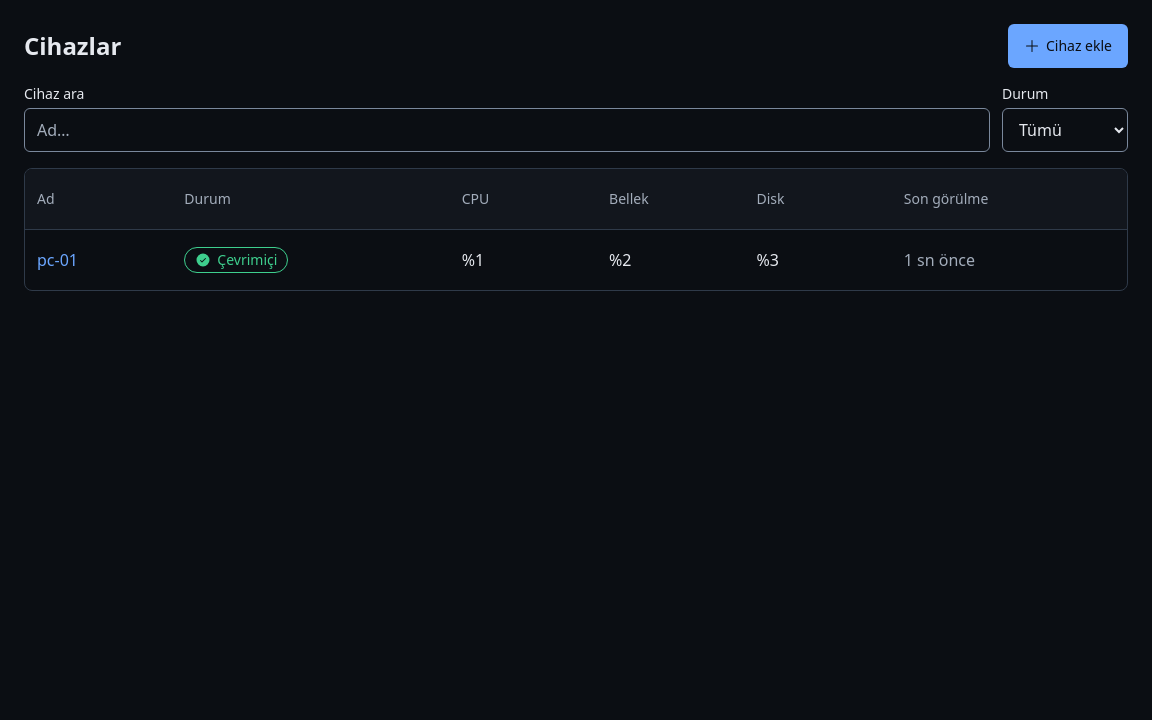
Cihaz ekle (enrollment token) › diyalog kapaninca token DOM'dan ve mutasyon onbelleginden SILINIR; yeniden acilinca yok
This screenshot has width=1152, height=720.
Click the button "Cihaz ekle".
click(1068, 46)  # box [1008,24,1128,68]
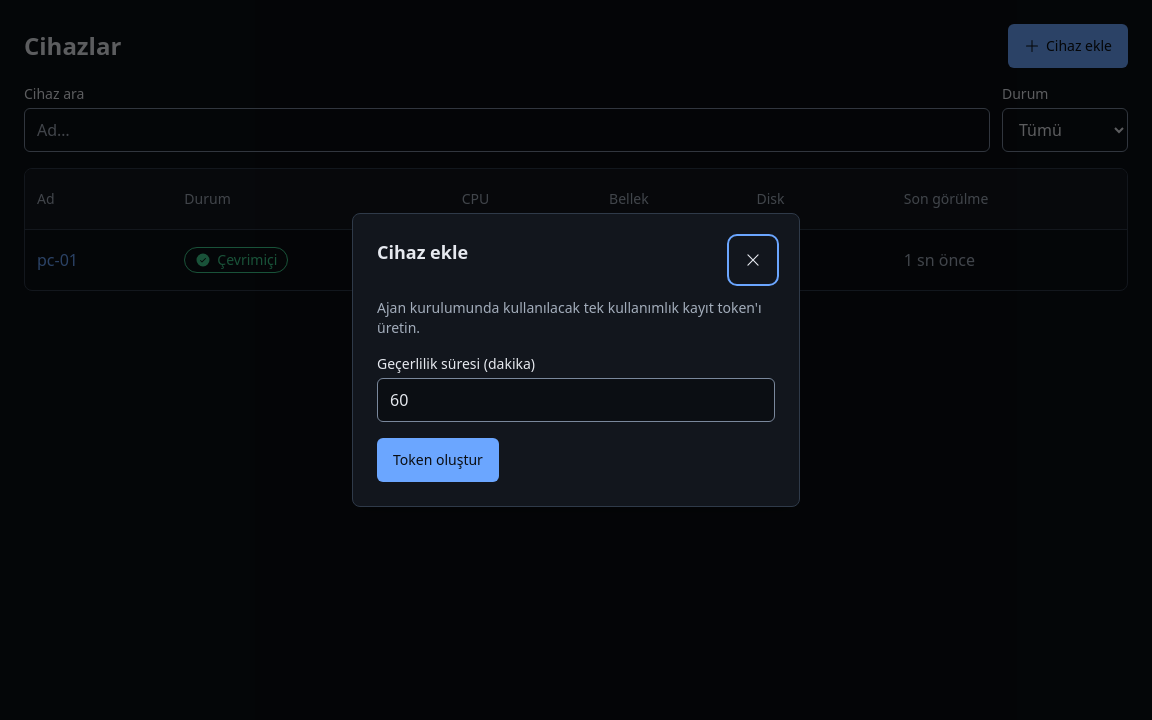
Click the button "Token oluştur".
click(438, 460)  # box [377,438,499,482]
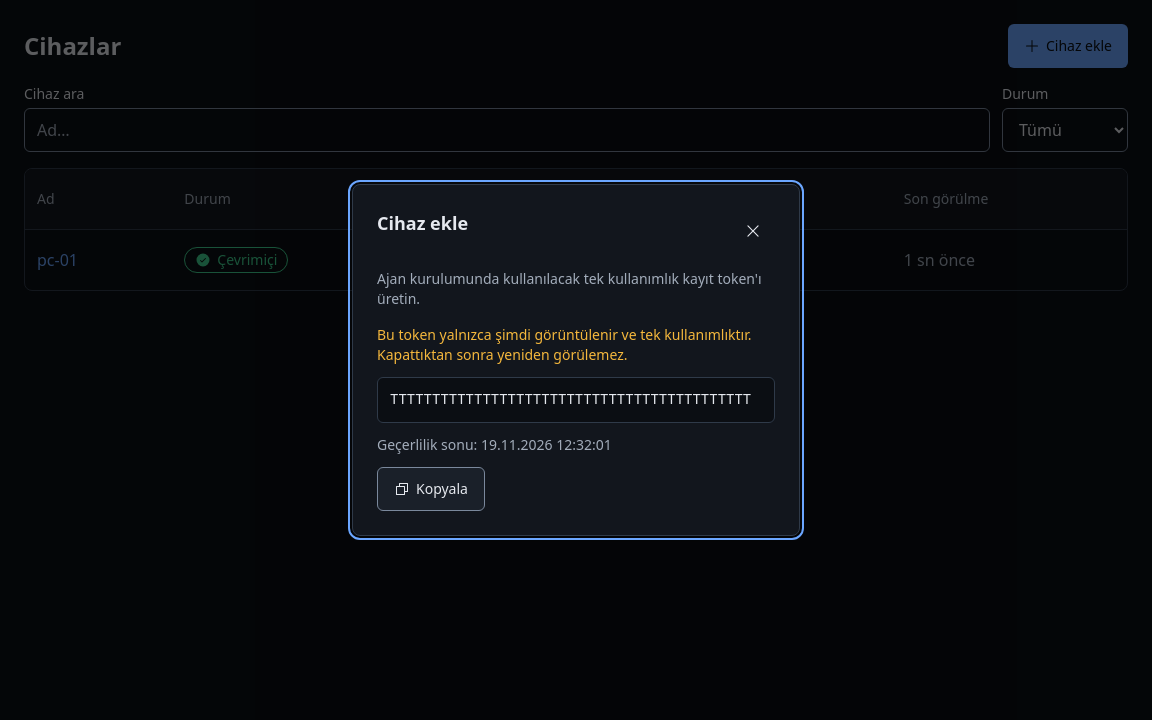
Press Escape
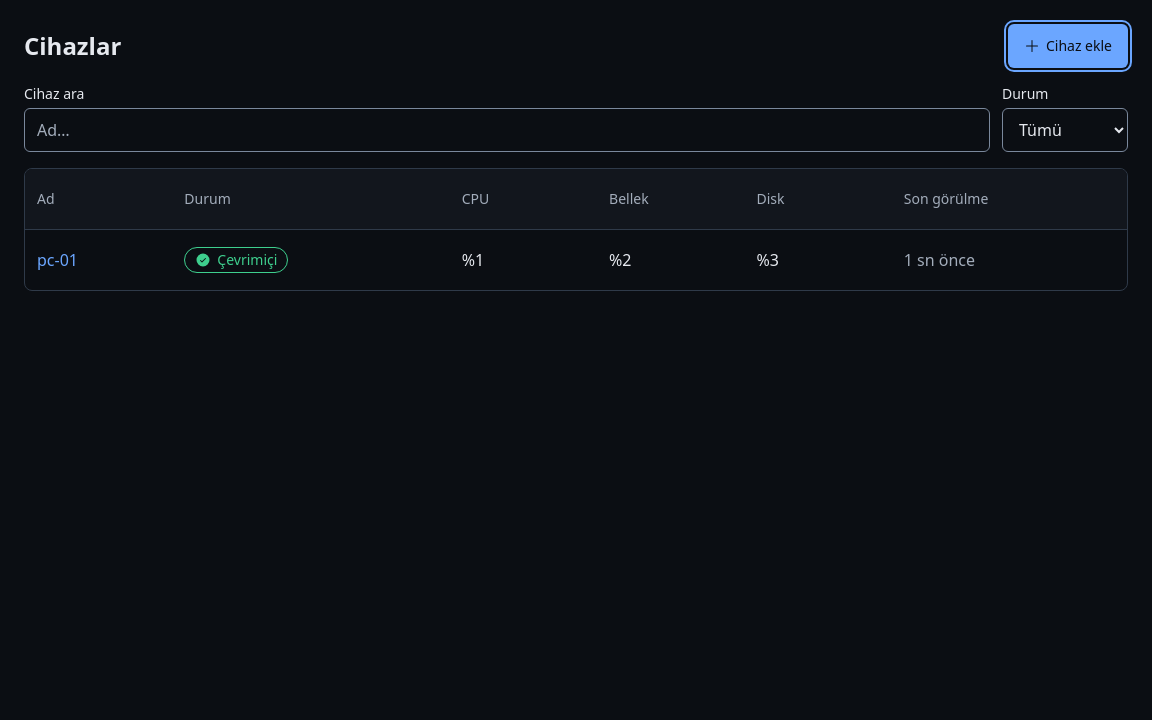
Expected: the dialog is gone
Click the button "Cihaz ekle".
click(1068, 46)  # box [1008,24,1128,68]
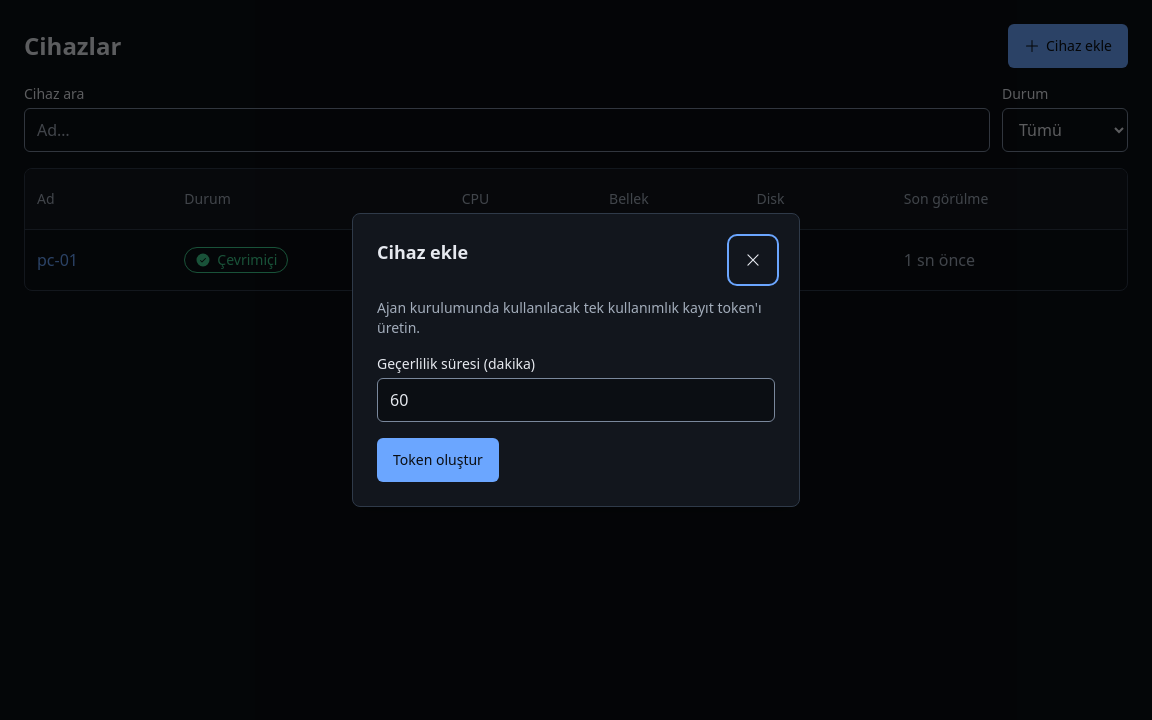
Expected: the button "Token oluştur" is shown, [377,438,499,482]
